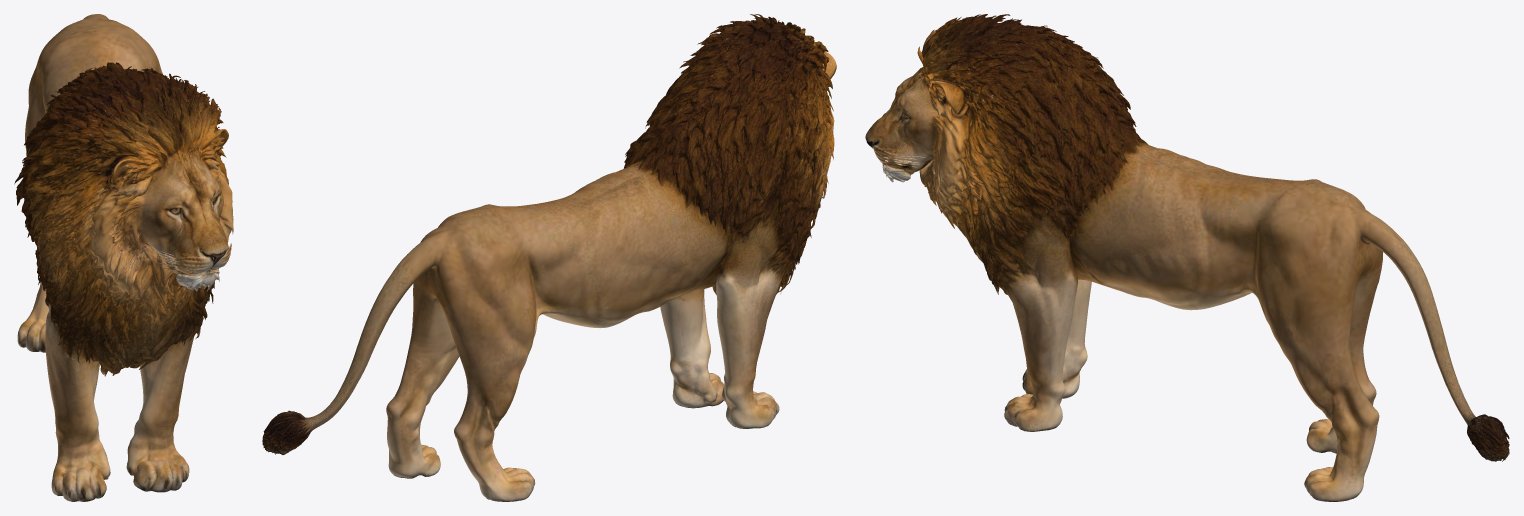
File: lion-light.glb
3 views of the same model, side by side, from view 1: azimuth 30°, elevation 25°; view 2: azimuth 150°, elevation 25°; view 3: azimuth 270°, elevation 25° (orthographic). The views are drawn at different scales.
Visible parts, largest first — view 1: lion; view 2: lion; view 3: lion.
Part boxes in pixels (x1,y1,x2,y2): lion: (14,14,233,501); lion: (262,14,836,501); lion: (865,14,1509,501).
Size of the model in its own units: 1.65 by 1.77 by 2.7.
Materials: 1 (1 with a texture image).
